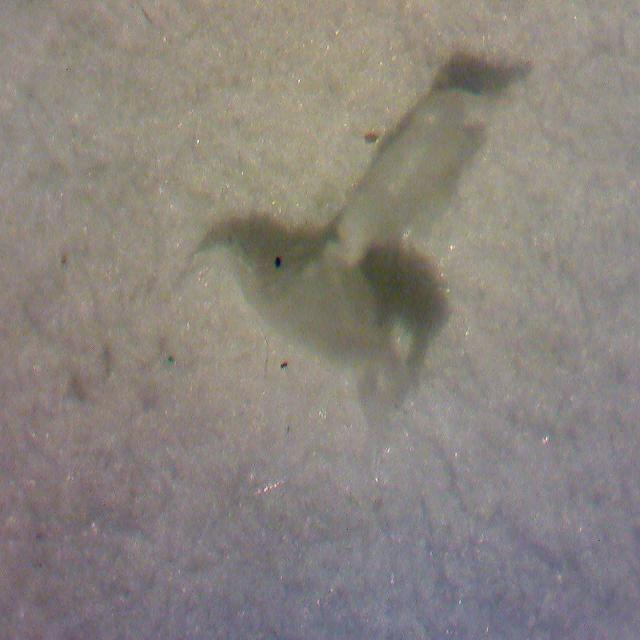microplastic: (190, 89, 483, 406)
